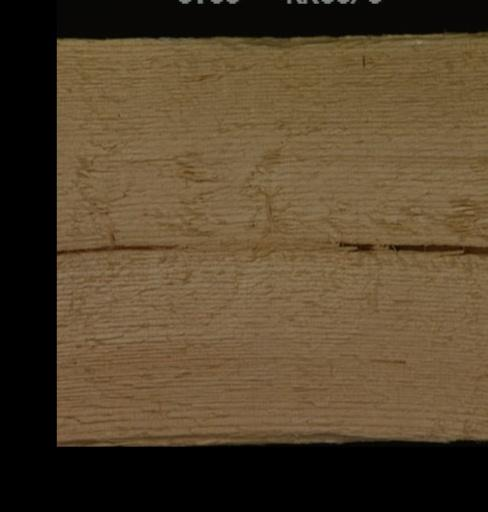wave: (108, 422, 370, 444)
